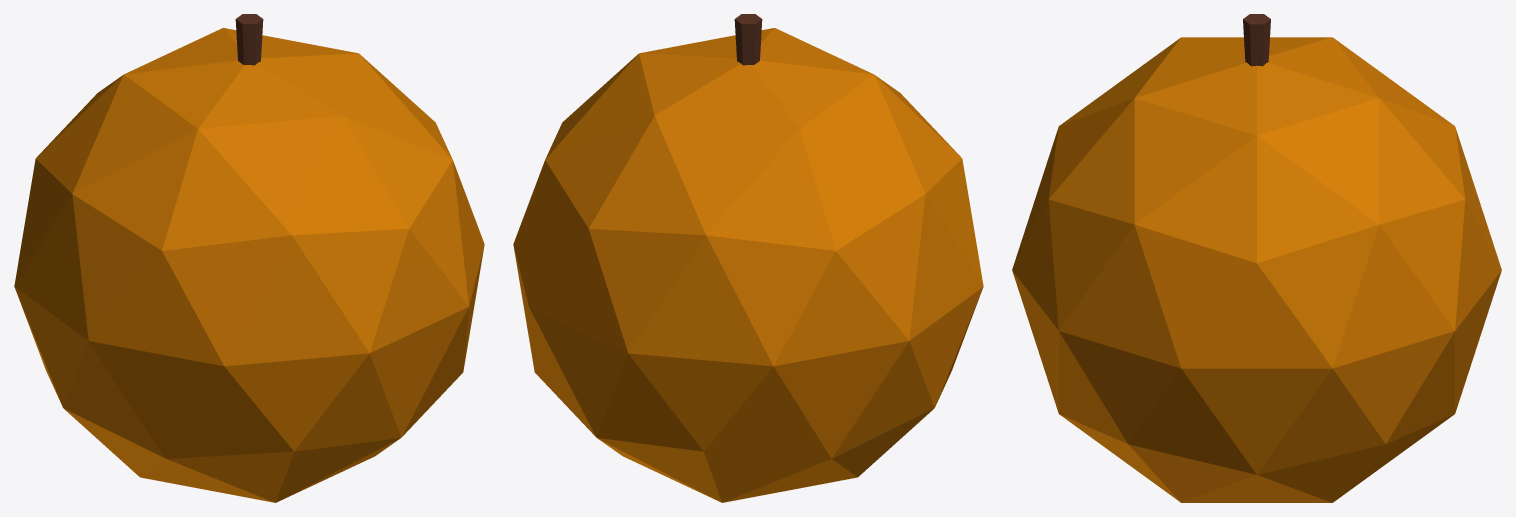
The model's file is orange.fbx.
The picture shows the model from 3 angles, left to right: view 1: azimuth 30°, elevation 25°; view 2: azimuth 150°, elevation 25°; view 3: azimuth 270°, elevation 25°; orthographic projection.
Visible parts, largest first — view 1: orange, stalk; view 2: orange, stalk; view 3: orange, stalk.
Part boxes in pixels (<box>): orange: <box>14,28,484,502</box>; stalk: <box>235,14,263,65</box>; orange: <box>513,28,983,502</box>; stalk: <box>734,14,762,65</box>; orange: <box>1012,37,1501,502</box>; stalk: <box>1243,14,1270,66</box>.
Size of the model in its own units: 1.9 by 2.13 by 2.
